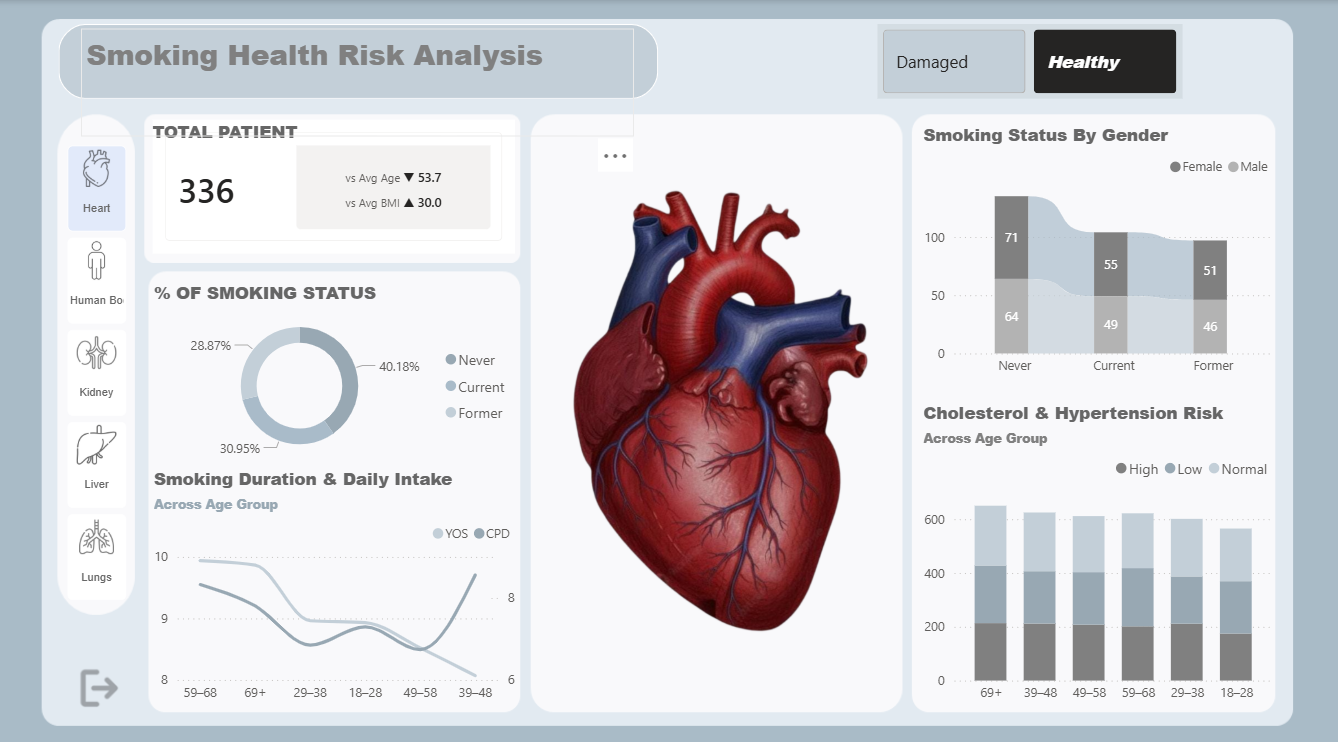

What the dashboard file says about the page in this screenshot:
{"tool":"powerbi","page":{"name":"Page 1","canvas":[1280,720],"ordinal":0},"visuals":[{"type":"cardVisual","fields":{"Data":["CountNonNull(health_dataset.Patient_ID)"]},"box":[140,108.2,356.3,138.4],"z":0},{"type":"textbox","box":[140,108.2,356.3,159.1],"z":1000},{"type":"advancedSlicerVisual","fields":{"Values":["condition.Organ_Condition"]},"box":[838.3,22.3,291.1,71.6],"z":2000},{"type":"ChicletSlicer1448559807354","fields":{"Category":["Organs.Organ"],"Image":["Organs.Icon_URL"]},"box":[55.7,130.4,108.2,456.5],"z":3000},{"type":"image","box":[509,117.7,354.7,550.4],"z":4000},{"type":"donutChart","title":"% OF SMOKING STATUS","fields":{"Category":["health_dataset.Smoking_Status"],"Y":["CountNonNull(health_dataset.Smoking_Status)"]},"box":[141.6,267.2,354.7,178.1],"z":5000},{"type":"lineChart","title":"Smoking Duration & Daily Intake","fields":{"Y":["Avg(health_dataset.Years_of_Smoking)"],"Y2":["Avg(health_dataset.Cigarettes_Per_Day)"],"Category":["health_dataset.Age Group"]},"box":[141.6,445.4,354.7,233.8],"z":6000},{"type":"ribbonChart","title":"Smoking Status By Gender","fields":{"Category":["health_dataset.Smoking_Status"],"Y":["CountNonNull(health_dataset.Patient_ID)"],"Series":["health_dataset.Gender"]},"box":[876.4,117.7,343.6,249.7],"z":7000},{"type":"columnChart","title":" Cholesterol & Hypertension Risk","fields":{"Category":["health_dataset.Age Group"],"Y":["Avg(health_dataset.Cholesterol_Level)"],"Series":["health_dataset.BP_Risk"]},"box":[876.4,381.7,343.6,297.4],"z":8000},{"type":"shape","box":[55.7,22.3,572.6,71.6],"z":9000},{"type":"textbox","box":[77.9,27,528.1,103.4],"z":10000}]}

Visuals, with their boxes in screenshot pixels (x1, y1, x2, y2), scaled from the page's 1280x720 canvas onto the 1338x742 screenshot:
cardVisual - CountNonNull(health_dataset.Patient_ID): {"x1": 146, "y1": 112, "x2": 519, "y2": 254}
textbox: {"x1": 146, "y1": 112, "x2": 519, "y2": 275}
advancedSlicerVisual - condition.Organ_Condition: {"x1": 876, "y1": 23, "x2": 1181, "y2": 97}
ChicletSlicer1448559807354 - Organs.Organ x Organs.Icon_URL: {"x1": 58, "y1": 134, "x2": 171, "y2": 605}
image: {"x1": 532, "y1": 121, "x2": 903, "y2": 689}
"% OF SMOKING STATUS" donutChart: {"x1": 148, "y1": 275, "x2": 519, "y2": 459}
"Smoking Duration & Daily Intake" lineChart: {"x1": 148, "y1": 459, "x2": 519, "y2": 700}
"Smoking Status By Gender" ribbonChart: {"x1": 916, "y1": 121, "x2": 1275, "y2": 379}
" Cholesterol & Hypertension Risk" columnChart: {"x1": 916, "y1": 393, "x2": 1275, "y2": 700}
shape: {"x1": 58, "y1": 23, "x2": 657, "y2": 97}
textbox: {"x1": 81, "y1": 28, "x2": 633, "y2": 134}
